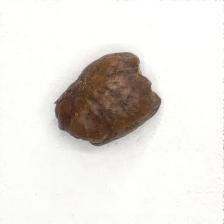NG: (129, 52, 162, 108)
